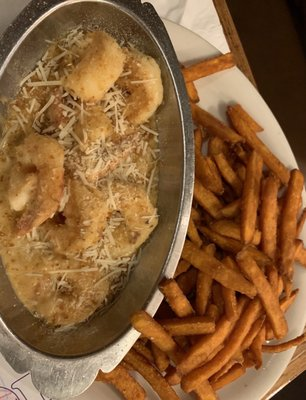sushi: (0, 3, 194, 395)
